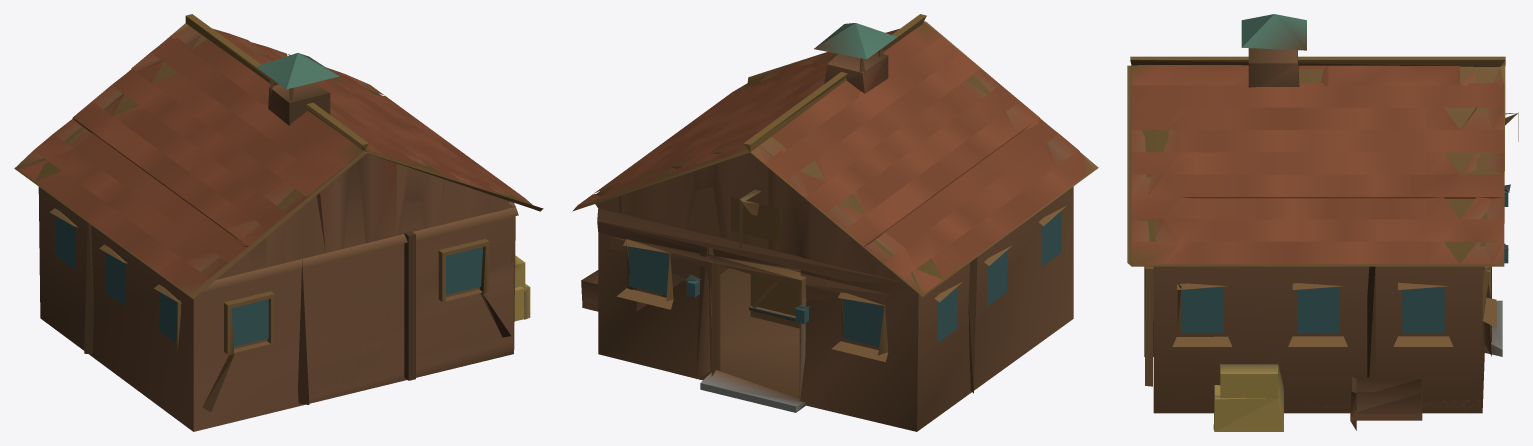
The model's file is LivestockFarm.glb.
3 views of the same model, side by side, from view 1: azimuth 30°, elevation 25°; view 2: azimuth 150°, elevation 25°; view 3: azimuth 270°, elevation 25° (orthographic). The views are drawn at different scales.
Visible parts, largest first — view 1: LivestockFarm_P0_LOD1, LivestockFarmGlass_P0_LOD1; view 2: LivestockFarm_P0_LOD1, LivestockFarmGlass_P0_LOD1, LivestockFarmDoor_P0_LOD1; view 3: LivestockFarm_P0_LOD1, LivestockFarmGlass_P0_LOD1.
Part boxes in pixels (bbox=[...]): LivestockFarm_P0_LOD1: bbox=[14, 14, 543, 431]; LivestockFarmGlass_P0_LOD1: bbox=[55, 216, 483, 346]; LivestockFarm_P0_LOD1: bbox=[572, 14, 1098, 431]; LivestockFarmGlass_P0_LOD1: bbox=[628, 211, 1061, 347]; LivestockFarmDoor_P0_LOD1: bbox=[749, 270, 800, 328]; LivestockFarm_P0_LOD1: bbox=[1127, 14, 1518, 431]; LivestockFarmGlass_P0_LOD1: bbox=[1181, 191, 1508, 333].
Size of the model in its own units: 9.08 by 6.83 by 7.61.
